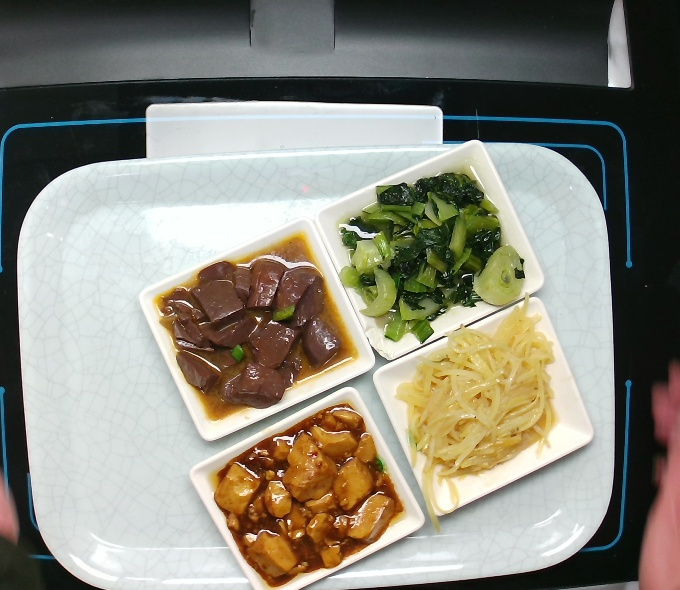wcq-MaPoDouFu: (217, 420, 392, 579)
wcq-NiuXue: (157, 257, 332, 416)
wcq-TuDouSi: (391, 330, 566, 489)
wcq-YouDongCai: (344, 181, 519, 340)
